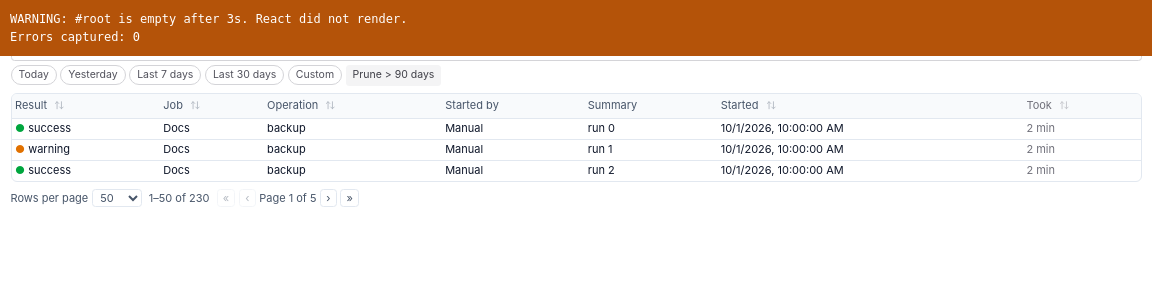
Test: run history › loads pages of runs from the backend, sorts there and opens a run's log
Expected: the button "run 0" is shown, [588,120,615,137]
Expected: the text with test id "grid-range" shows "of 230", [149,190,210,206]
Click the column heading "Result": (86, 106) [12,94,160,118]
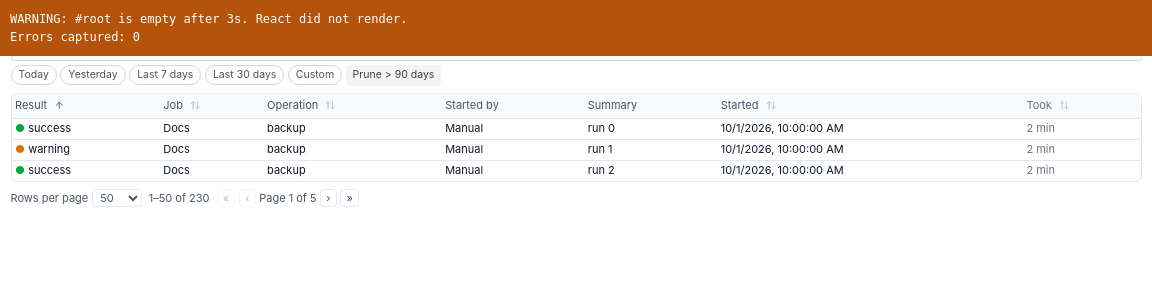
Click the button named "Next page": (328, 198) [320,188,337,207]
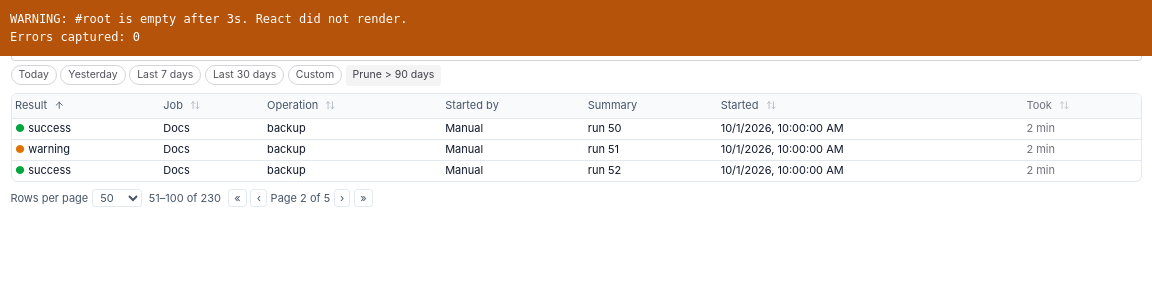
Expected: the button "run 50" is shown
Click the button "run 50": (605, 129) [588,120,622,137]
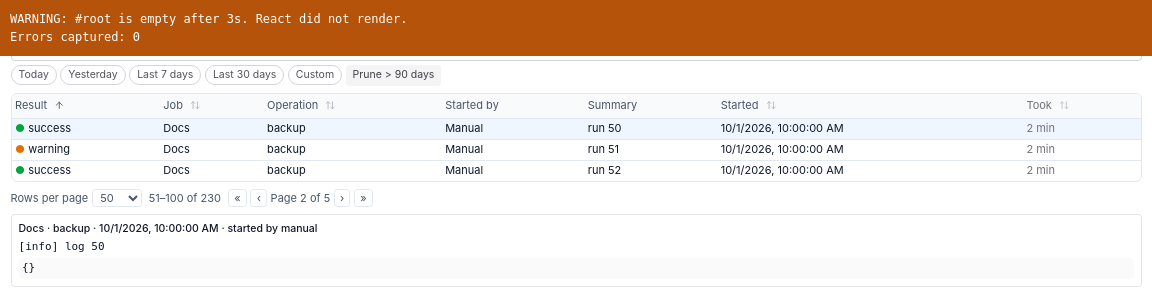
Expected: the element with test id "run-details" shows "log 50", [65,240,105,252]
